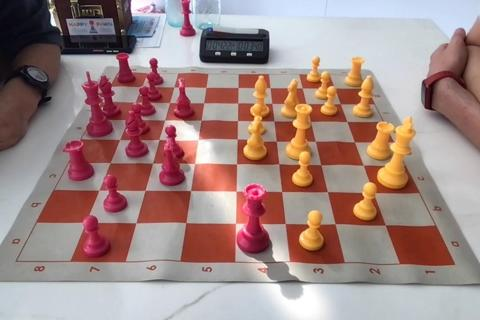xcorner: (277, 186, 290, 199), (232, 218, 244, 231), (331, 219, 343, 232), (95, 184, 107, 197), (186, 185, 198, 198), (368, 187, 380, 200), (123, 113, 135, 126), (196, 114, 208, 127), (232, 115, 245, 127), (269, 115, 281, 128), (341, 116, 353, 129), (198, 97, 211, 109), (168, 81, 181, 93), (297, 82, 309, 95), (82, 217, 94, 229), (132, 217, 144, 229), (182, 218, 194, 230), (281, 219, 293, 231), (380, 220, 392, 232), (141, 185, 153, 197), (232, 186, 244, 198), (323, 187, 335, 199), (106, 157, 118, 169), (148, 158, 160, 170), (190, 158, 202, 170), (232, 159, 244, 171), (274, 159, 286, 171), (316, 160, 328, 172), (358, 160, 370, 172), (115, 134, 127, 146), (154, 134, 166, 146), (193, 135, 205, 147), (232, 135, 244, 147), (271, 136, 283, 148), (310, 136, 322, 148), (349, 137, 361, 149), (160, 114, 172, 126), (305, 116, 317, 128), (130, 96, 142, 108), (164, 96, 176, 108), (233, 97, 245, 109), (267, 98, 279, 110), (301, 98, 313, 110), (335, 99, 347, 111), (136, 80, 148, 92), (201, 81, 213, 93), (233, 82, 245, 94), (265, 82, 277, 94), (329, 83, 341, 95)
